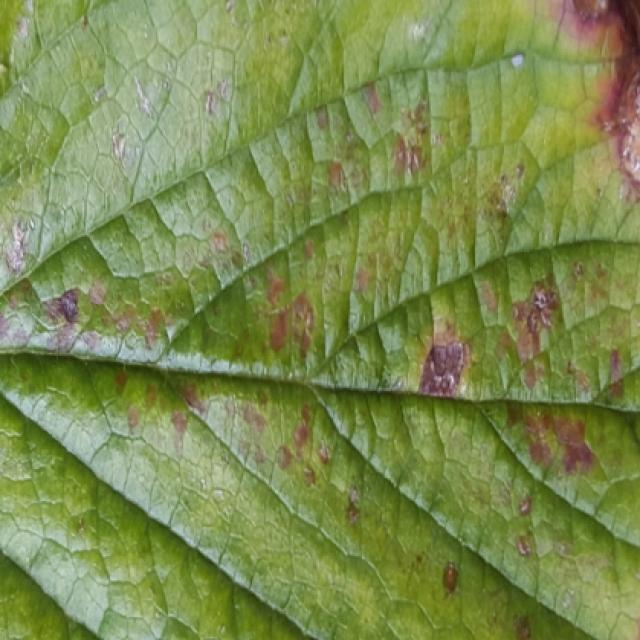Angular Leafspot: (0, 0, 638, 638)
